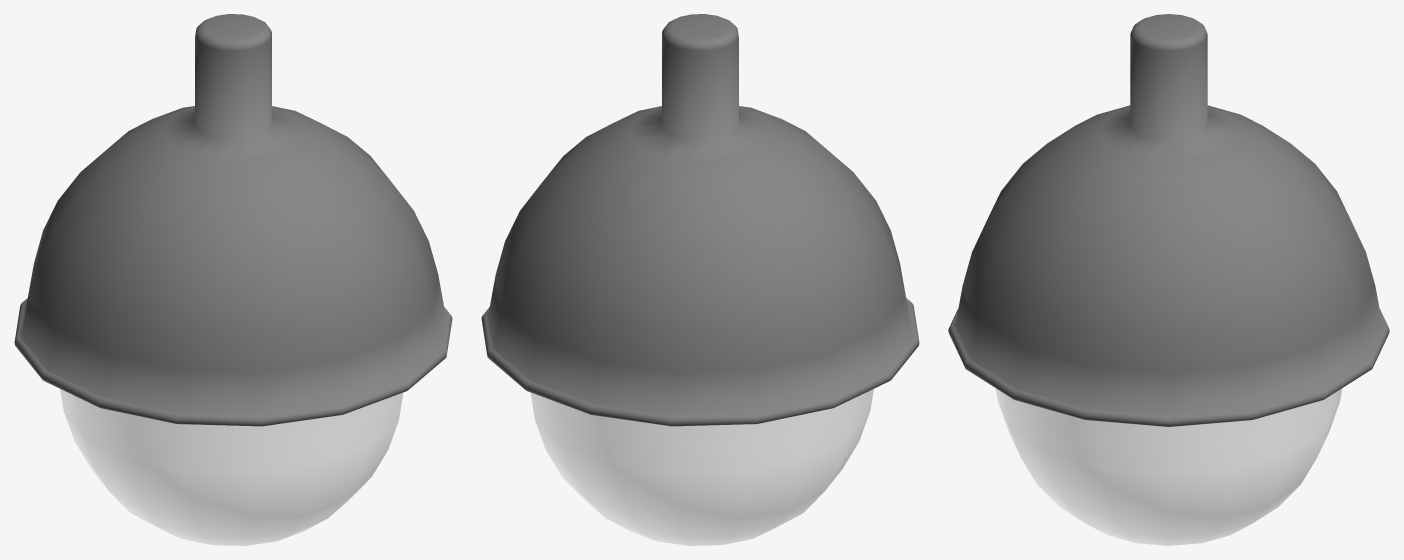
Rendered from Jana.glb.
3 views of the same model, side by side, from view 1: azimuth 30°, elevation 25°; view 2: azimuth 150°, elevation 25°; view 3: azimuth 270°, elevation 25° (orthographic).
Parts seen in each view (by area): view 1: Glocke, Glas; view 2: Glocke, Glas; view 3: Glocke, Glas.
Part boxes in pixels (box(x1,y1,x2,y2)): Glocke: box(14, 14, 452, 426); Glas: box(60, 389, 403, 545); Glocke: box(481, 14, 919, 426); Glas: box(530, 389, 873, 545); Glocke: box(948, 14, 1389, 426); Glas: box(996, 388, 1341, 545).
Bounding box in the file's own units: 0.4989 × 0.6254 × 0.4989.
Materials: 2 (1 with a texture image).
